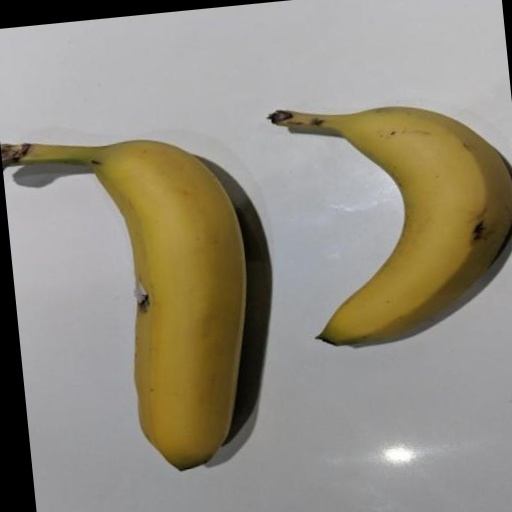fruit: (1, 141, 245, 469), (270, 107, 512, 344)
